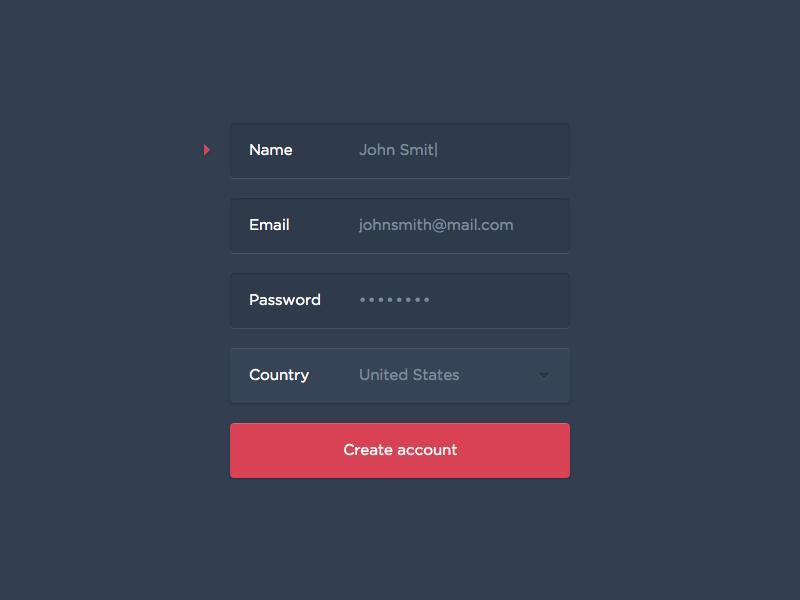button: (230, 424, 571, 480)
dropdown: (231, 350, 572, 402)
input: (230, 124, 573, 180), (231, 275, 574, 330), (230, 200, 574, 252)
label: (245, 290, 326, 313), (246, 363, 312, 389), (249, 213, 294, 236), (247, 140, 296, 160)
